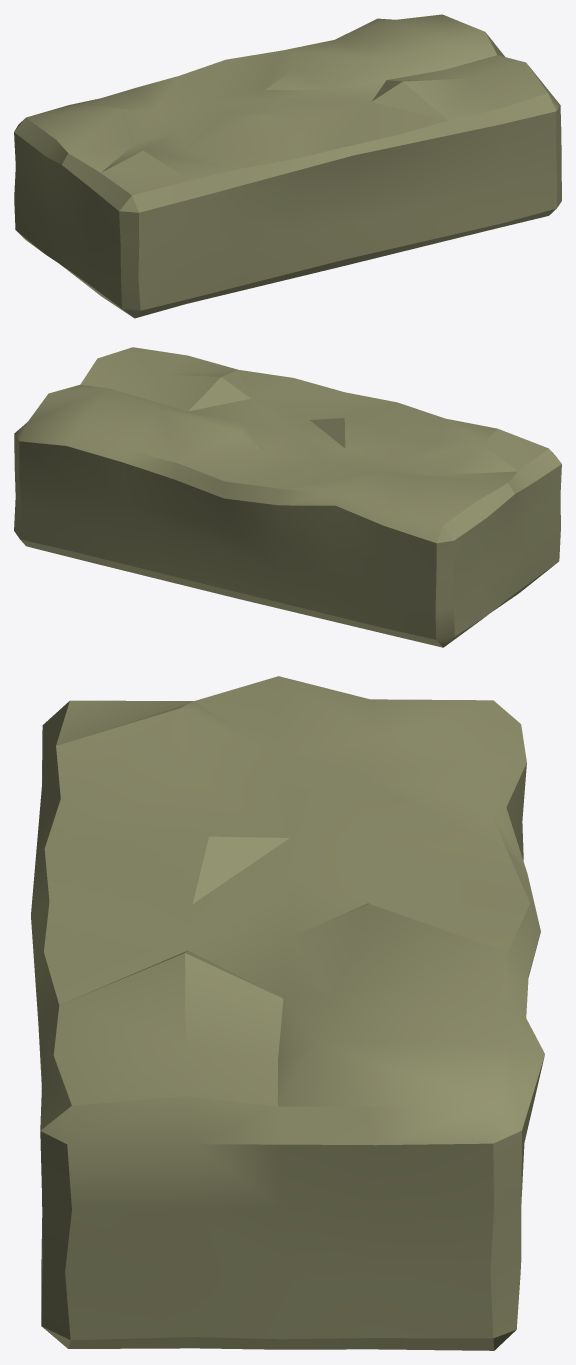
The model's file is Hedge_1x2.fbx.
3 views of the same model, one above another, from view 1: azimuth 30°, elevation 25°; view 2: azimuth 150°, elevation 25°; view 3: azimuth 270°, elevation 25° (orthographic). The views are drawn at different scales.
Visible parts, largest first — view 1: Hedge_1x2; view 2: Hedge_1x2; view 3: Hedge_1x2.
Boxes of the visible parts, x1,y1,x2,y2 form: Hedge_1x2: [14, 14, 561, 318]; Hedge_1x2: [14, 347, 561, 647]; Hedge_1x2: [31, 676, 544, 1350].
Size of the model in its own units: 1.93 by 0.957 by 0.588.
